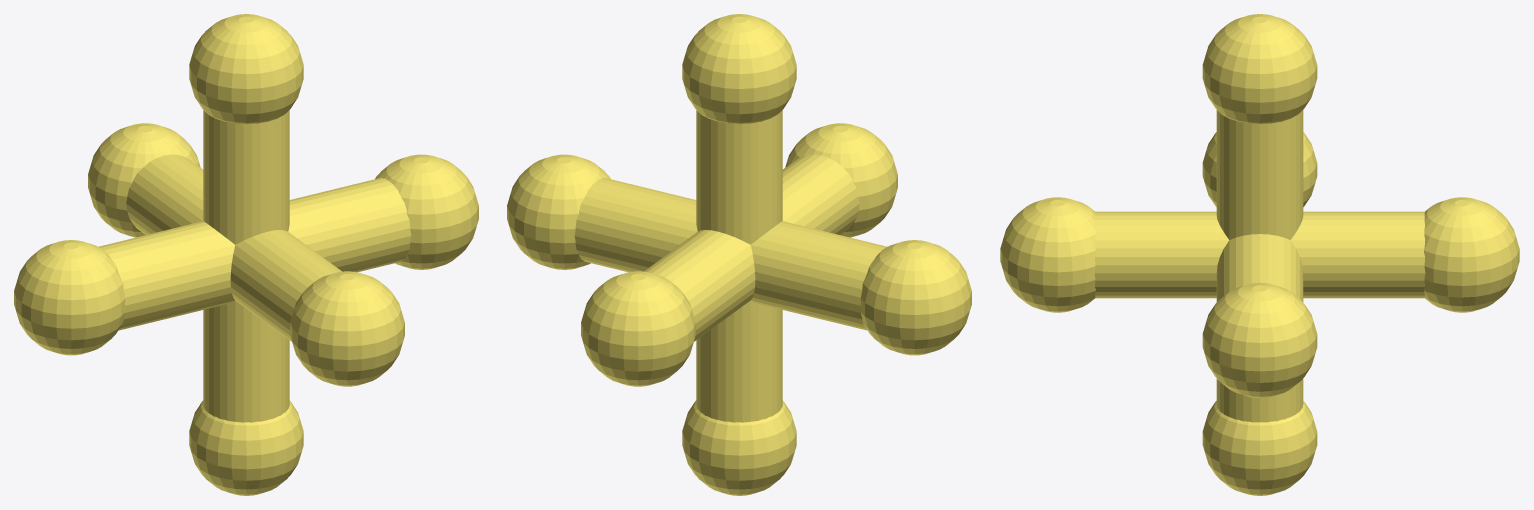
The model's file is jack.glb.
3 views of the same model, side by side, from view 1: azimuth 30°, elevation 25°; view 2: azimuth 150°, elevation 25°; view 3: azimuth 270°, elevation 25° (orthographic).
Size of the model in its own units: 35.93 by 35.93 by 35.93.
